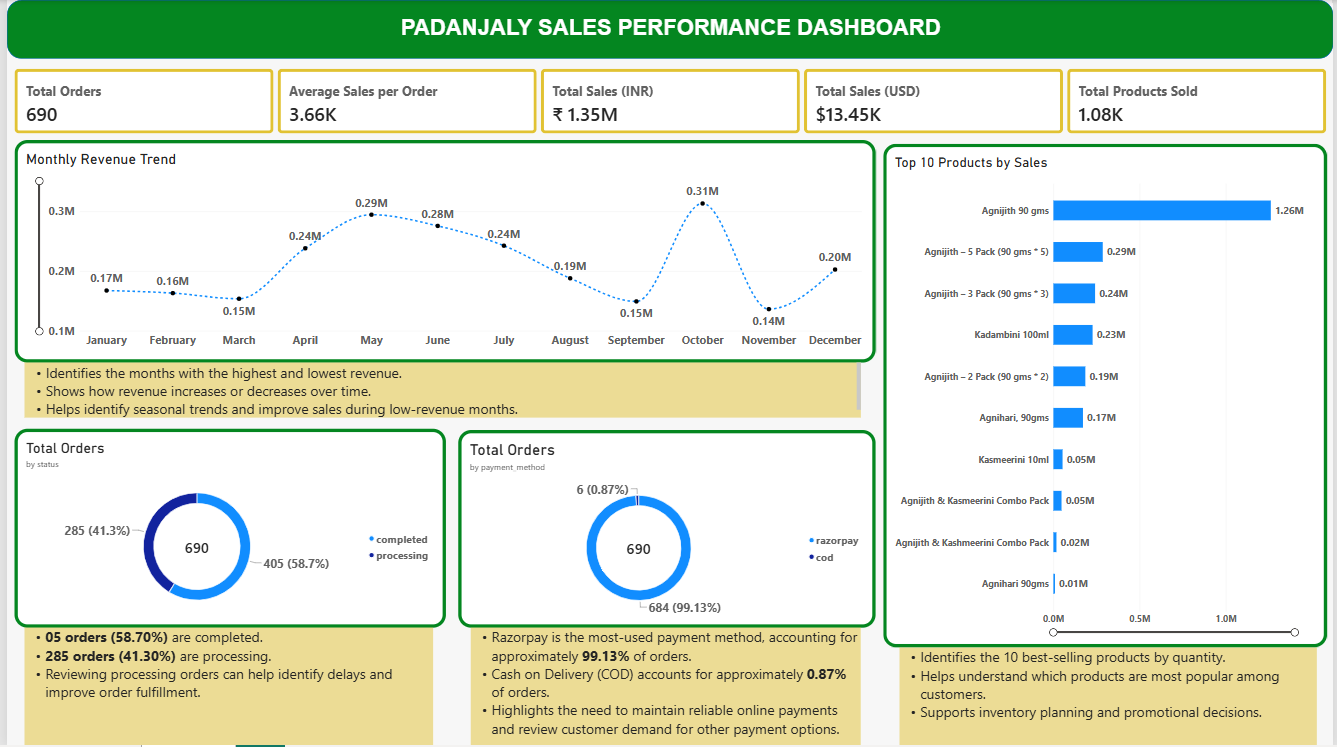

The dashboard page shown, as its layout file describes it:
{"tool":"powerbi","page":{"name":"Page 1","canvas":[2560,1440],"ordinal":0},"visuals":[{"type":"shape","box":[0,0,2560.1,113.4],"z":0},{"type":"cardVisual","fields":{"Data":["padanjaly-order export cleaned.Total Orders","padanjaly-order export cleaned.Average Sales per Order","padanjaly-order export cleaned.Total Sales (INR)","padanjaly-order export cleaned.Total Sales (USD)","padanjaly-order export cleaned.Total Products Sold"]},"box":[14.5,132.7,2533.5,125.5],"z":1000},{"type":"textbox","box":[0,29,2562.5,83.2],"z":2000},{"type":"lineChart","title":"Monthly Revenue Trend","fields":{"Category":["padanjaly-order export cleaned.order_date.Variation.Date Hierarchy.Month"],"Y":["padanjaly-order export cleaned.Total sales"]},"box":[14.5,270.2,1662.5,429.5],"z":3000},{"type":"clusteredBarChart","title":"Top 10 Products by Sales","fields":{"Category":["padanjaly-order export cleaned.Product Item 1 Name"],"Y":["padanjaly-order export cleaned.Total sales"]},"box":[1691.4,277.5,856.6,972.4],"z":4000},{"type":"donutChart","fields":{"Category":["padanjaly-order export cleaned.status"],"Y":["padanjaly-order export cleaned.Total Orders"]},"box":[14.5,827.6,832.4,383.6],"z":5000},{"type":"donutChart","fields":{"Category":["padanjaly-order export cleaned.payment_method"],"Y":["padanjaly-order export cleaned.Total Orders"]},"box":[871.1,830,805.9,381.2],"z":6000},{"type":"textbox","box":[33.8,1211.3,789,229.2],"z":7000},{"type":"textbox","box":[33.8,699.7,1614.2,106.2],"z":8000},{"type":"textbox","box":[895.2,1211.3,752.8,229.2],"z":9000},{"type":"textbox","box":[1722.8,1249.9,805.9,190.6],"z":10000}]}

Visuals, with their boxes in screenshot pixels (x1, y1, x2, y2), scaled from the page's 2560x1440 canvas onto the 1337x747 screenshot:
shape: (0,0,1336,59)
cardVisual - padanjaly-order export cleaned.Total Orders x padanjaly-order export cleaned.Average Sales per Order: (8,69,1331,134)
textbox: (0,15,1336,58)
"Monthly Revenue Trend" lineChart: (8,140,876,363)
"Top 10 Products by Sales" clusteredBarChart: (883,144,1331,648)
donutChart - padanjaly-order export cleaned.status x padanjaly-order export cleaned.Total Orders: (8,429,442,628)
donutChart - padanjaly-order export cleaned.payment_method x padanjaly-order export cleaned.Total Orders: (455,431,876,628)
textbox: (18,628,430,746)
textbox: (18,363,861,418)
textbox: (468,628,861,746)
textbox: (900,648,1321,746)
